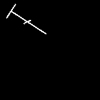double_crochet: (7, 4, 45, 33)
